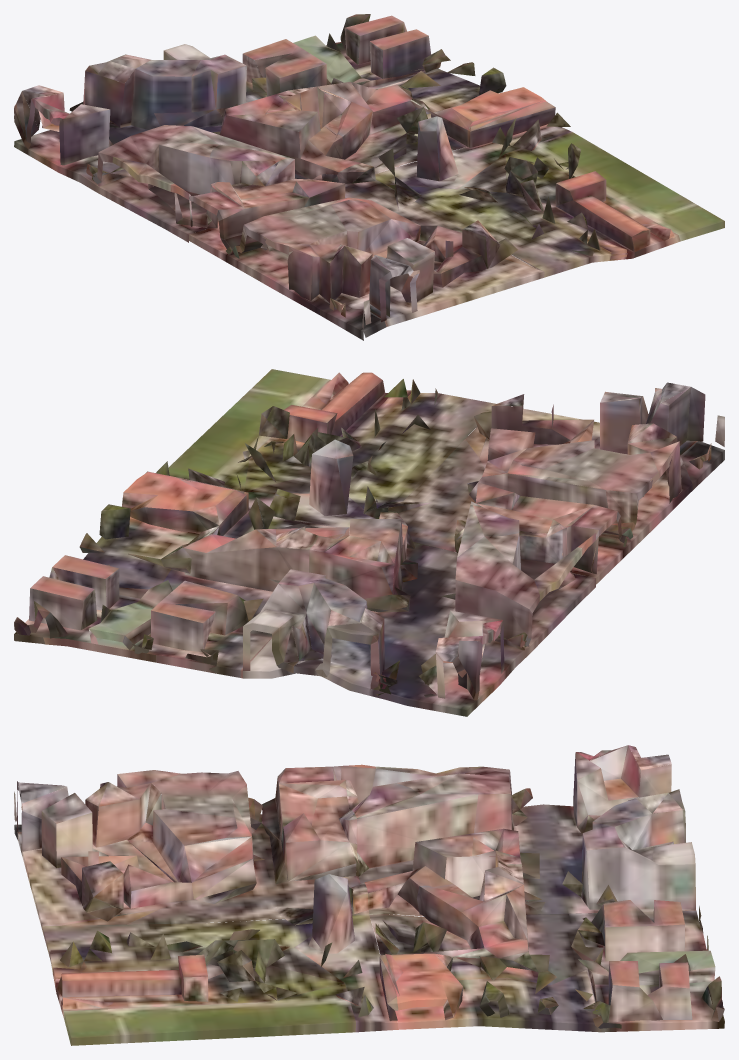
The picture shows the model from 3 angles, top to bottom: view 1: azimuth 30°, elevation 25°; view 2: azimuth 150°, elevation 25°; view 3: azimuth 270°, elevation 25°; orthographic projection. The views are drawn at different scales.
Parts seen in each view (by area): view 1: Mesh_0; view 2: Mesh_0; view 3: Mesh_0.
Part boxes in pixels (bbox=[...]): Mesh_0: bbox=[14, 14, 724, 340]; Mesh_0: bbox=[14, 369, 724, 716]; Mesh_0: bbox=[14, 745, 724, 1045].
Bounding box in the file's own units: 266 × 46.98 × 330.
Materials: 2 (2 with a texture image).
